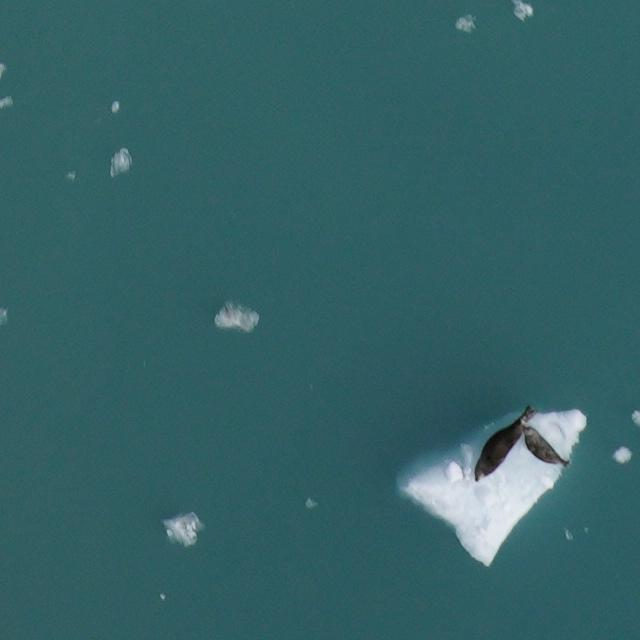seal: (464, 397, 539, 489), (514, 423, 573, 478)
